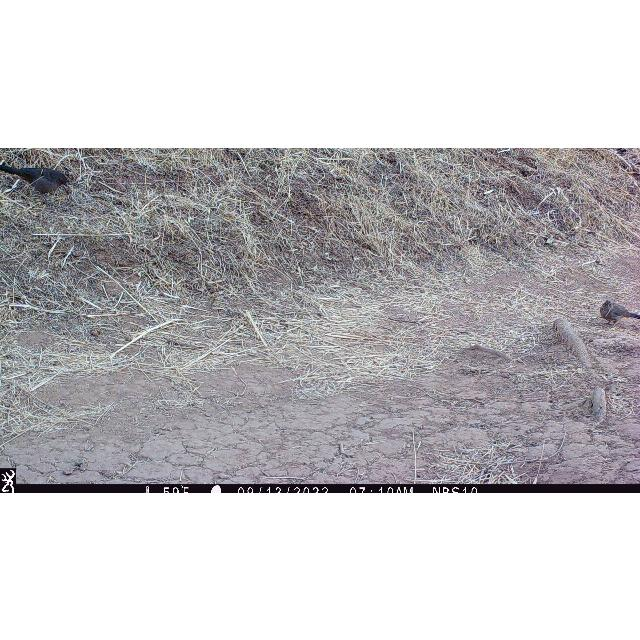animals: (0, 163, 76, 191), (600, 298, 640, 328)
